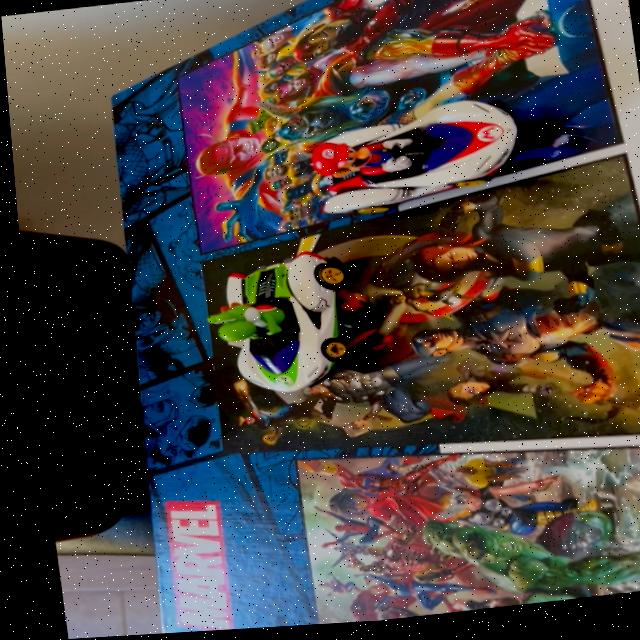mario: (292, 93, 543, 223)
yoshi: (193, 237, 374, 413)
